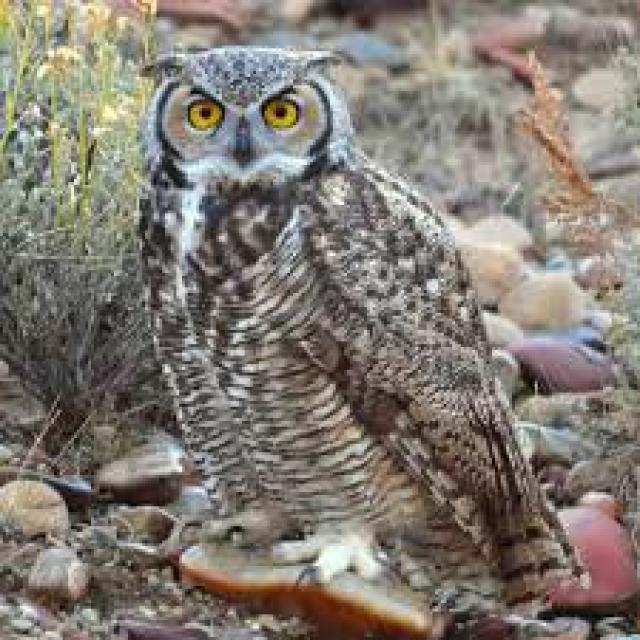owl: (142, 48, 558, 572)
